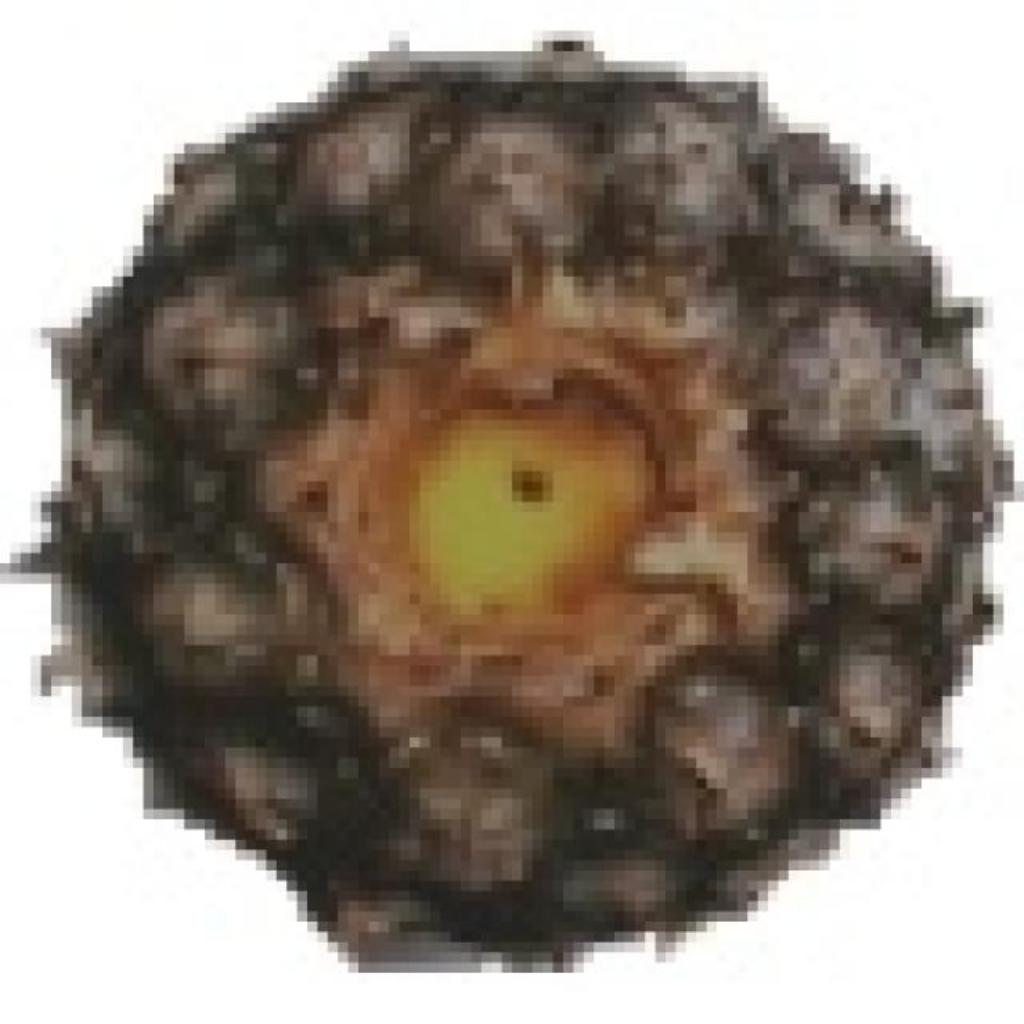pineapple: (72, 31, 1014, 942)
